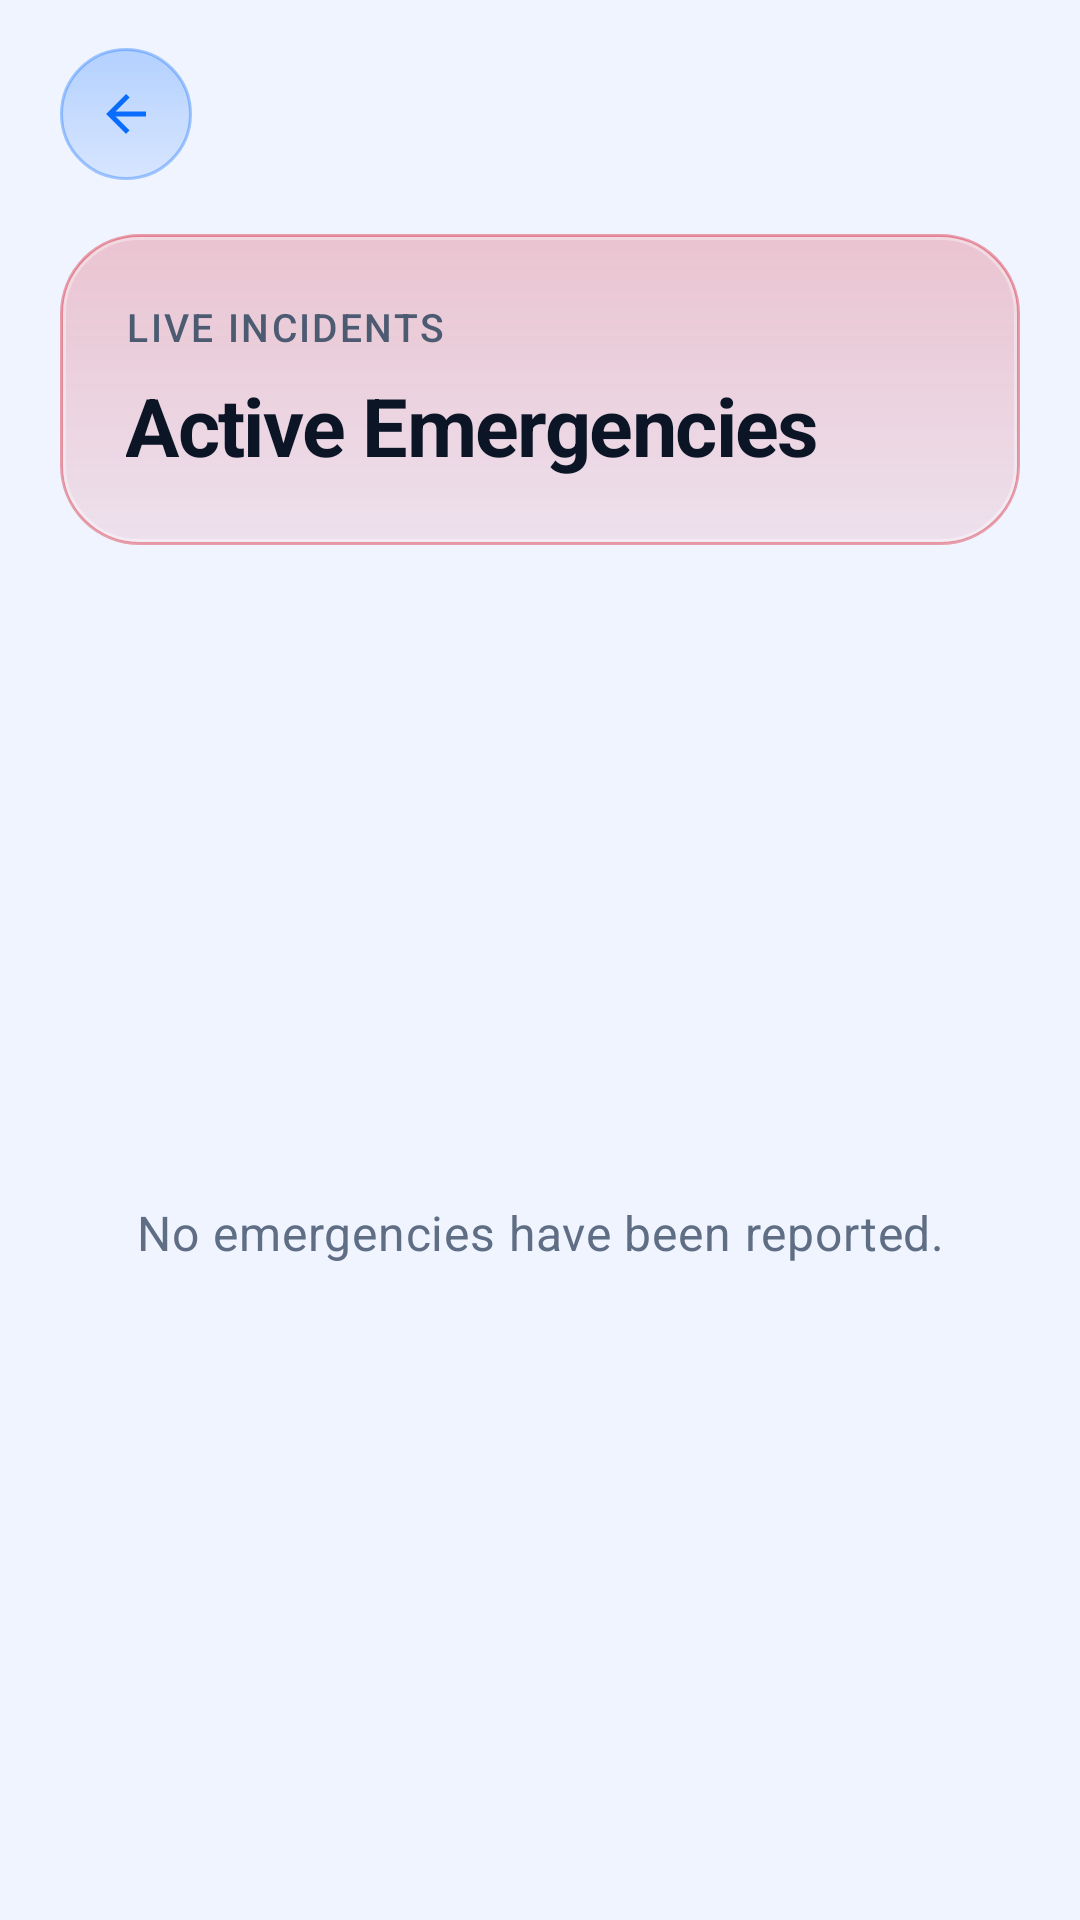

Screen size 1080x1920. Icon name, then its center in pixels as (x,y):
Back: (126,114)
